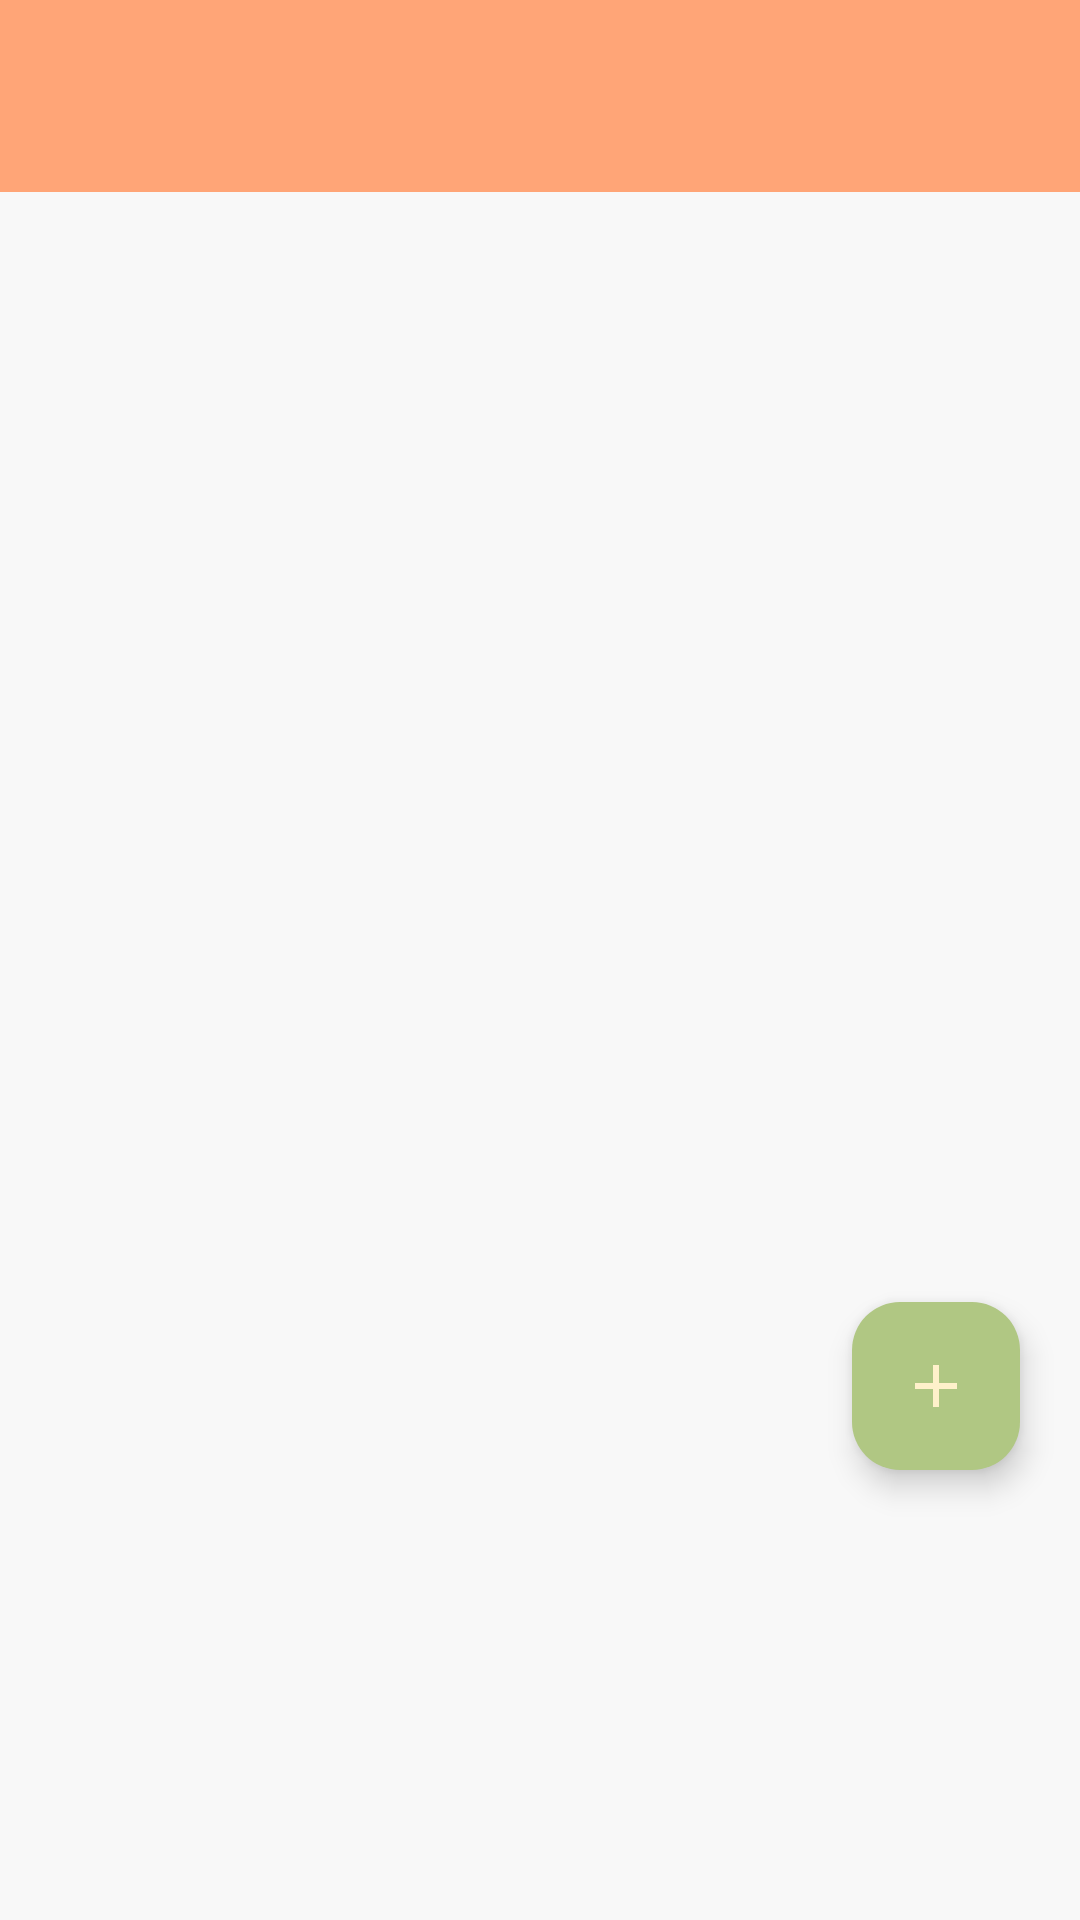

Named icons in this screenshot (1080 × 1920) and their centers, [x,y]:
Add Note: [936,1386]
